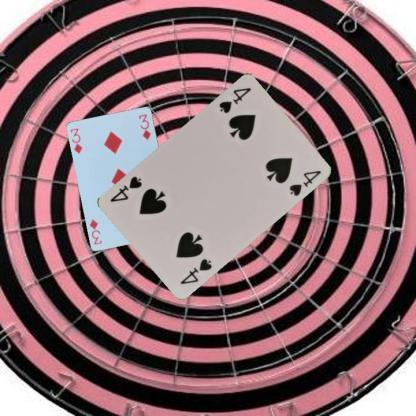3d: (68, 126, 83, 155)
4s: (217, 84, 252, 115), (178, 256, 214, 286)
